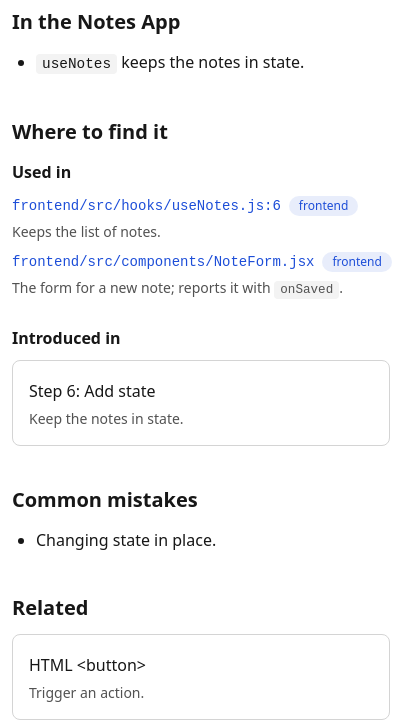
Test: ConceptPage › navigates to a related concept
The width and height of the screenshot is (409, 720).
(page scrolled)
Click the link "HTML <button> Trigger an action." at (87, 665), box [12,634,390,719]
(page scrolled)
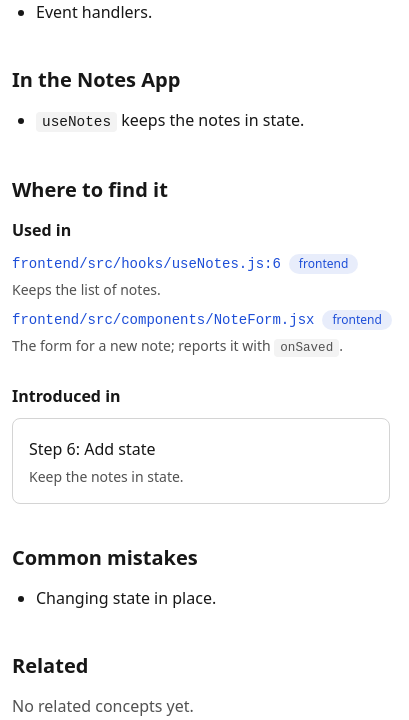
Check: the text "No related concepts yet." is shown, box [12,695,194,717]
